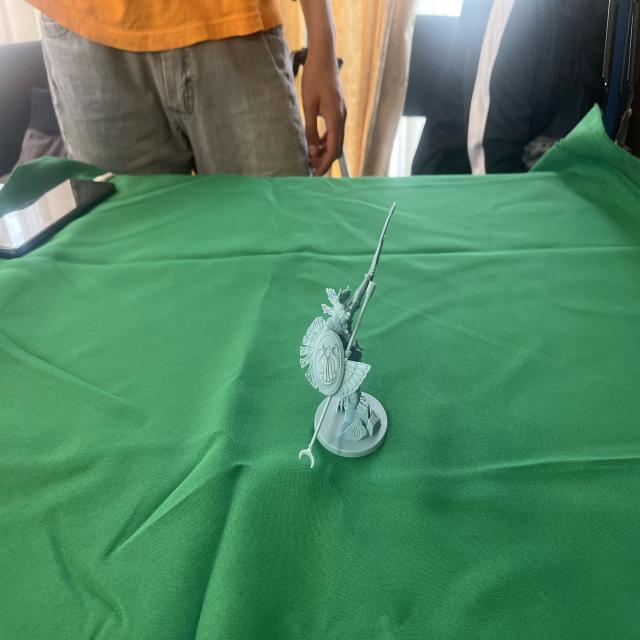isis: (290, 195, 411, 487)
